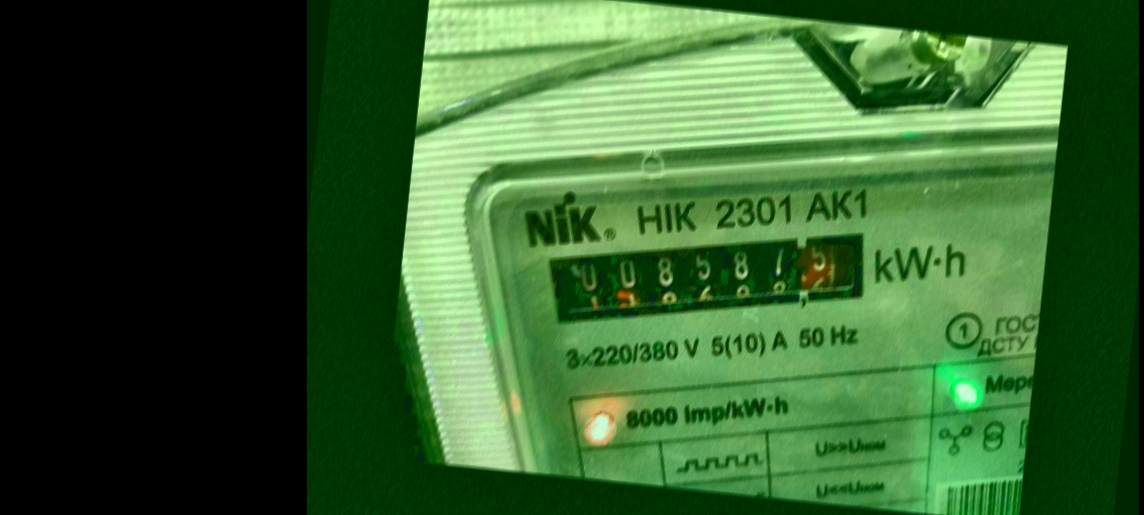0: (611, 253, 641, 290), (573, 257, 602, 292)
5: (688, 248, 715, 281), (804, 238, 829, 271)
6: (807, 273, 827, 292)
7: (764, 243, 790, 279)
8: (651, 253, 678, 287), (726, 246, 752, 281)
screen: (532, 199, 890, 357)
